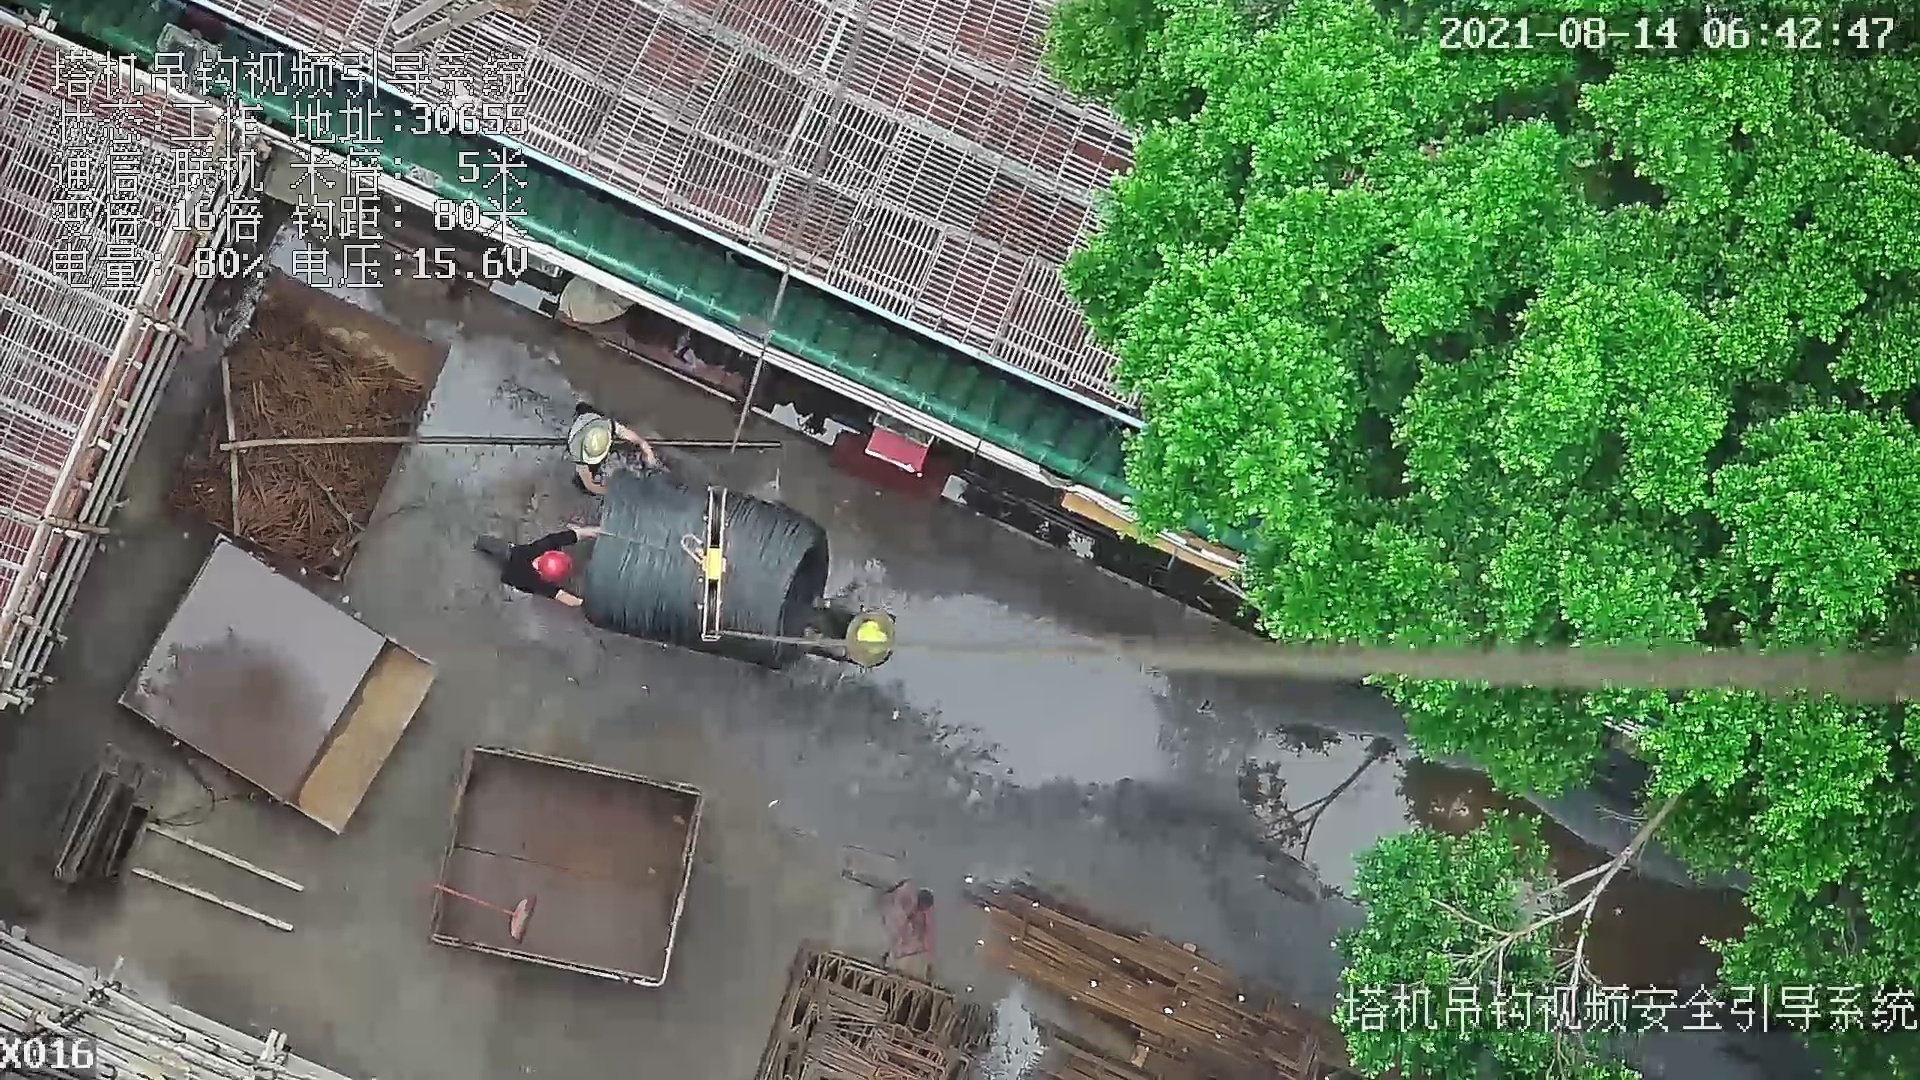helmet: (534, 550, 574, 580), (582, 427, 611, 461), (858, 627, 895, 648)
hook: (678, 487, 723, 640)
person: (477, 514, 606, 610), (563, 400, 662, 496), (797, 590, 905, 672)
